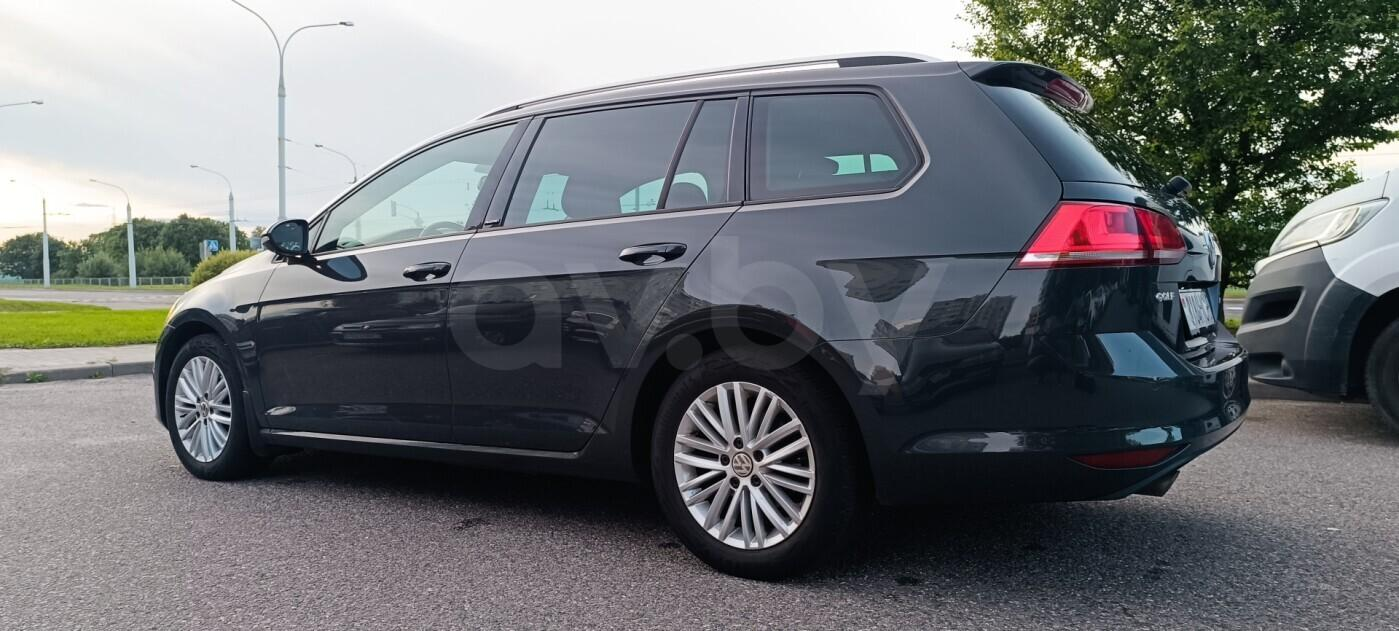Golf_2012-2017: (149, 61, 1249, 576)
